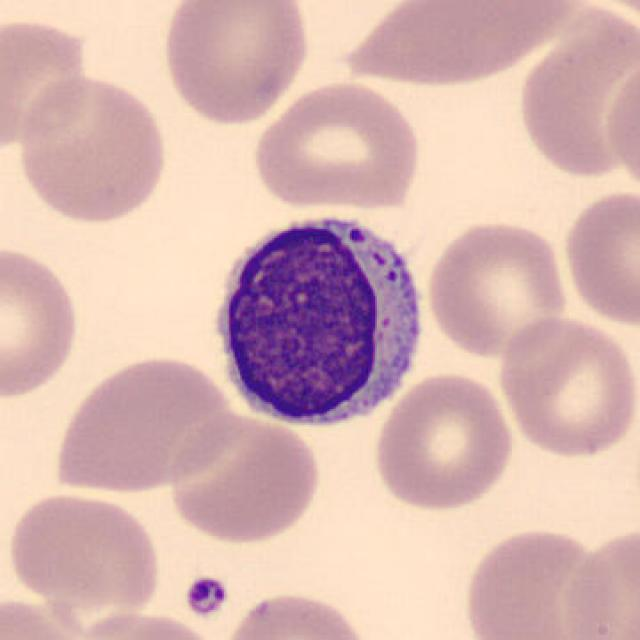Lymphocyte: (199, 201, 436, 435)
Platelets: (181, 573, 231, 621)
RBC: (48, 351, 238, 497), (12, 70, 170, 228), (247, 76, 427, 213), (512, 7, 638, 189), (164, 407, 326, 547), (329, 2, 585, 90), (423, 215, 573, 362), (3, 487, 165, 622), (494, 312, 638, 462), (370, 370, 517, 513), (156, 0, 313, 127), (458, 522, 618, 640), (0, 10, 94, 157), (0, 238, 84, 402), (558, 185, 640, 330), (558, 522, 640, 640), (217, 587, 375, 640), (602, 54, 640, 201), (61, 608, 230, 640), (0, 592, 96, 640)
